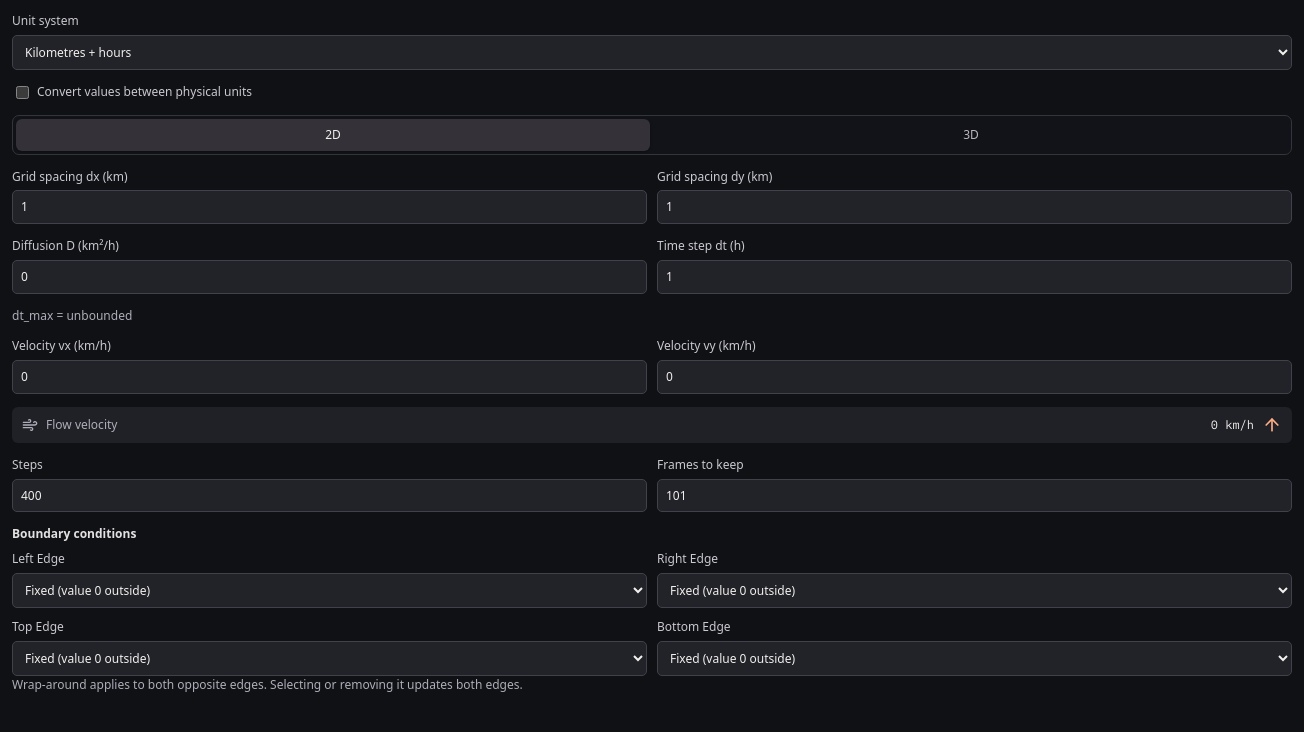
Test case: pairs periodic edges and unpairs them together
Select "Wrap-around" in the dropdown labelled "left edge": (330, 590) [12,573,647,608]
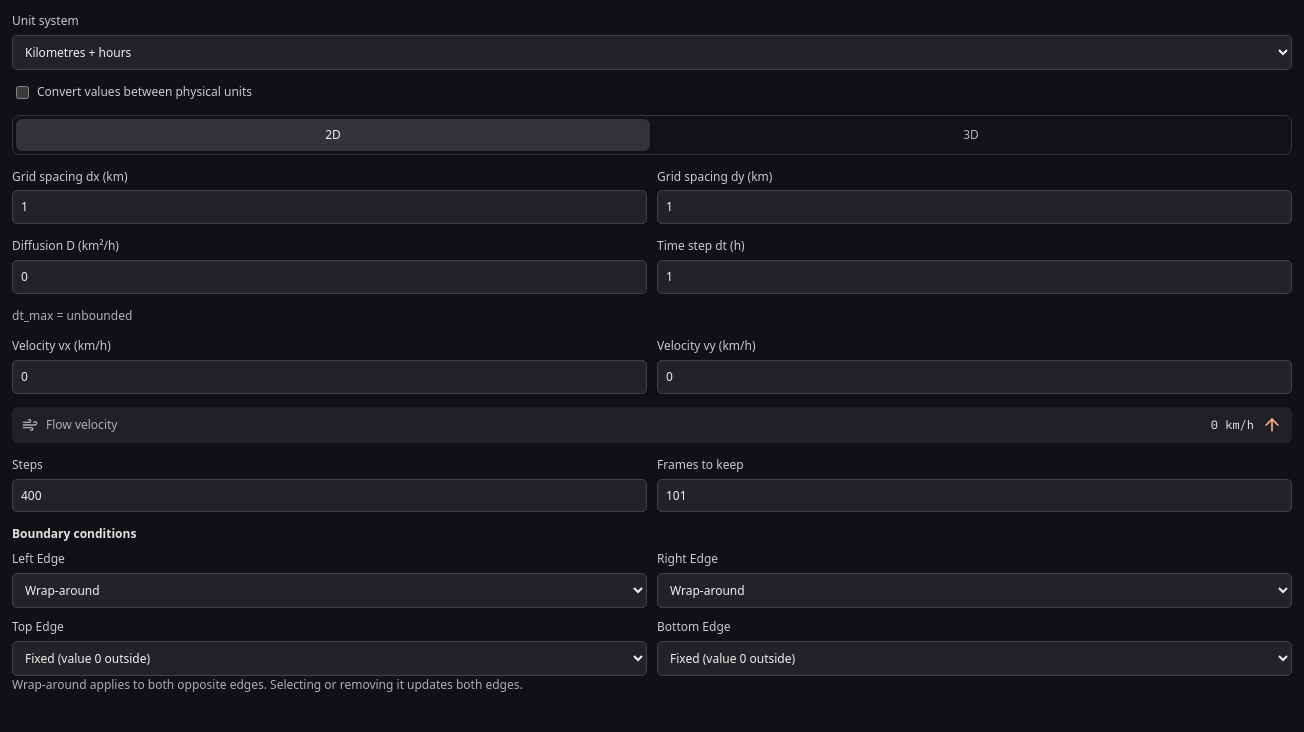
Now the dropdown labelled "right edge" shows "Wrap-around"
Select "Insulated (zero gradient)" in the dropdown labelled "right edge": (974, 590) [657,573,1292,608]
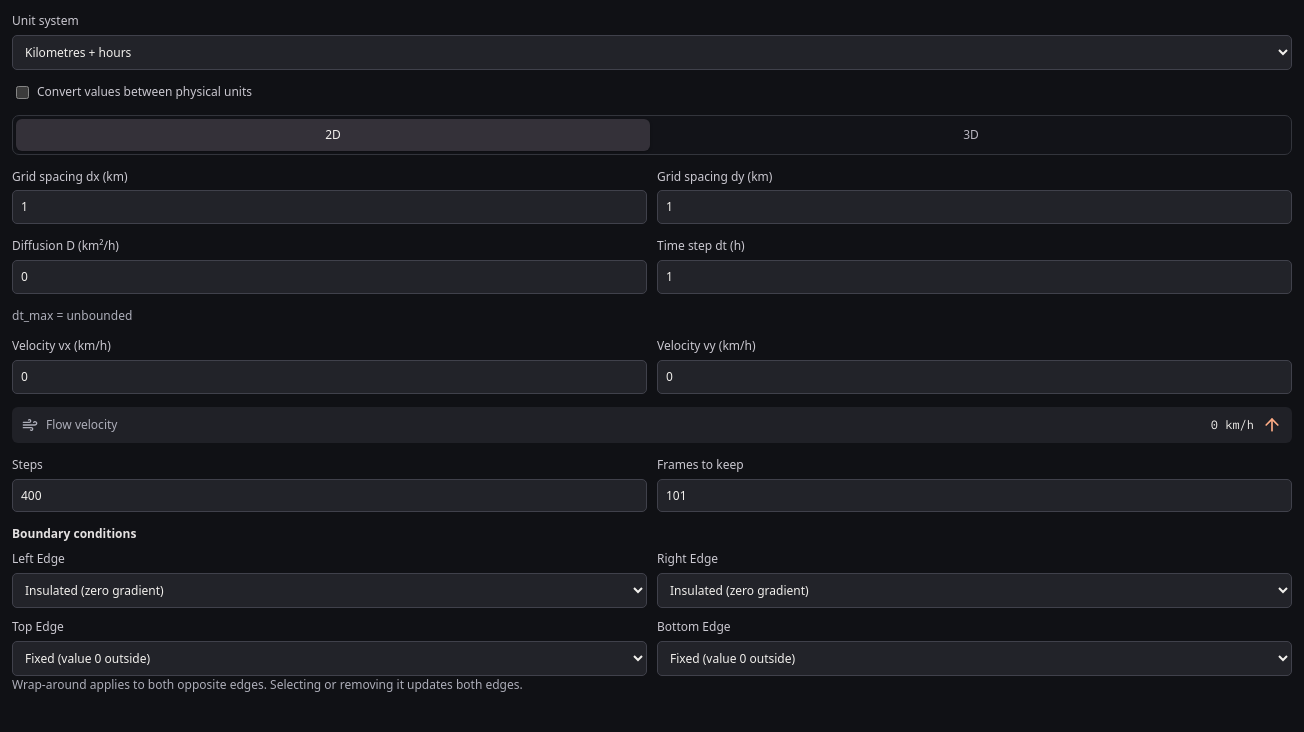
Expected: the dropdown labelled "top edge" shows "Fixed (value 0 outside)", [12,640,647,676]
Select "Wrap-around" in the dropdown labelled "bottom edge": (974, 658) [657,640,1292,676]
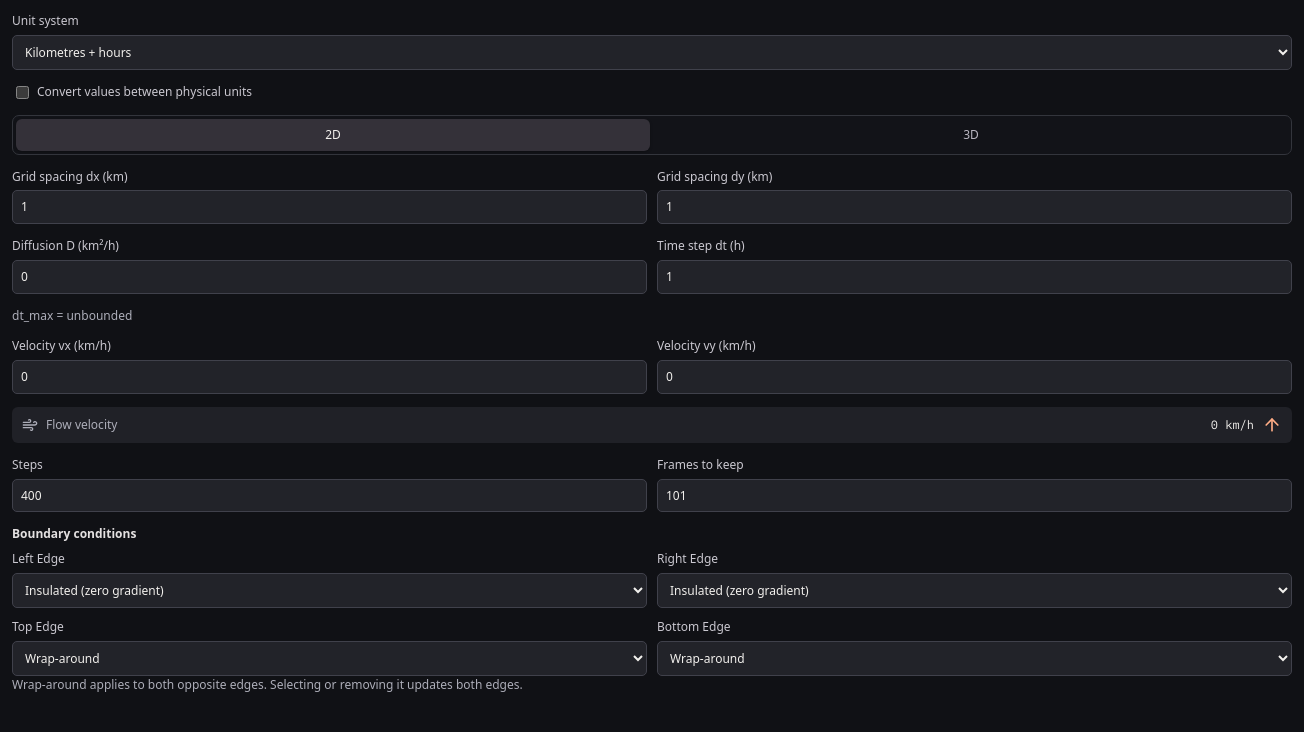
Now the dropdown labelled "top edge" shows "Wrap-around", box [12,640,647,676]
